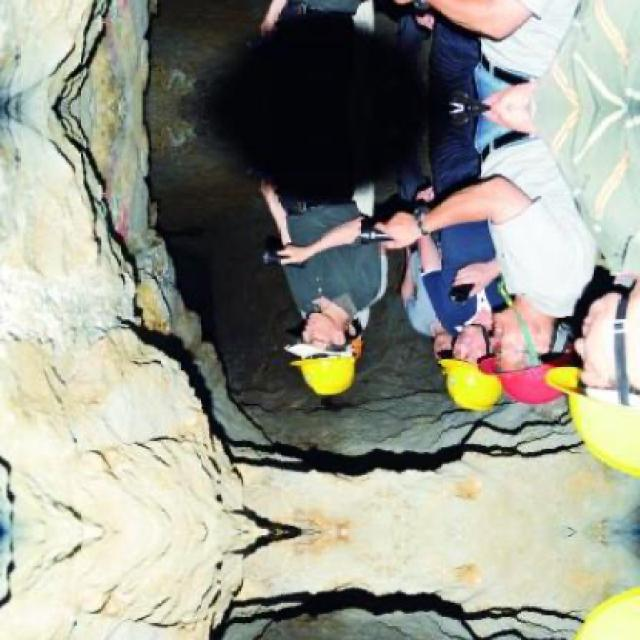con casco: (527, 310, 640, 462), (204, 317, 360, 422), (482, 309, 570, 410)
